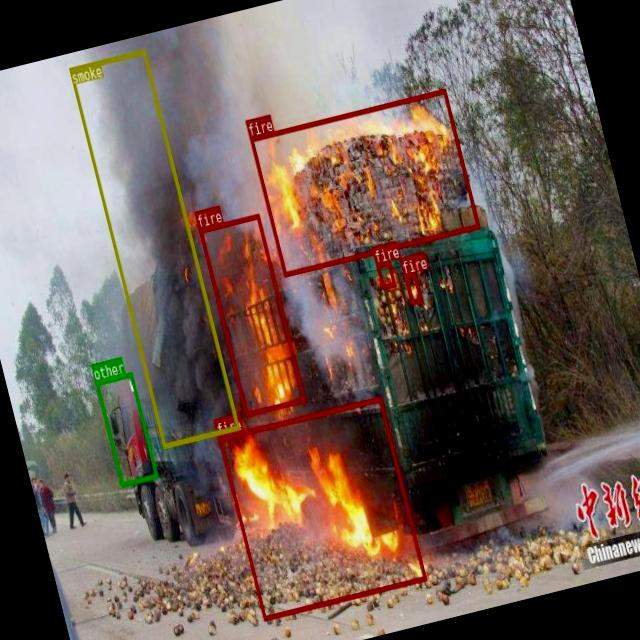fire: (218, 395, 426, 620), (248, 88, 480, 277), (198, 213, 304, 415), (402, 272, 422, 304), (375, 259, 396, 289)
smoke: (68, 48, 238, 447)
